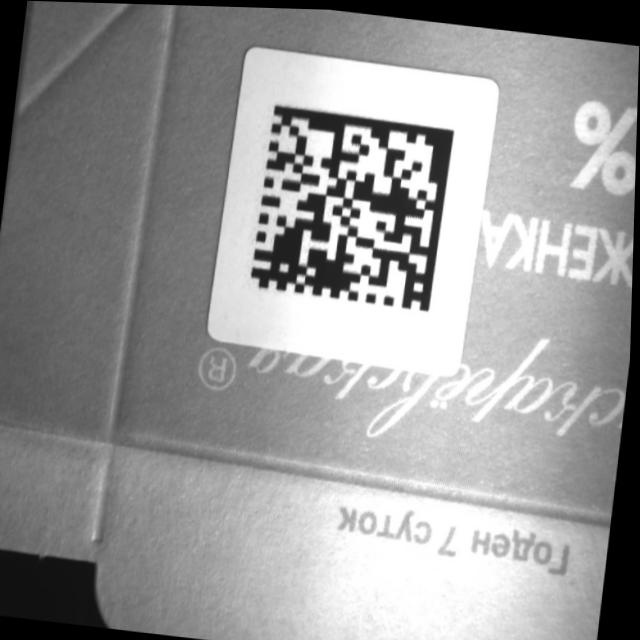datamatrix: (250, 101, 457, 312)
